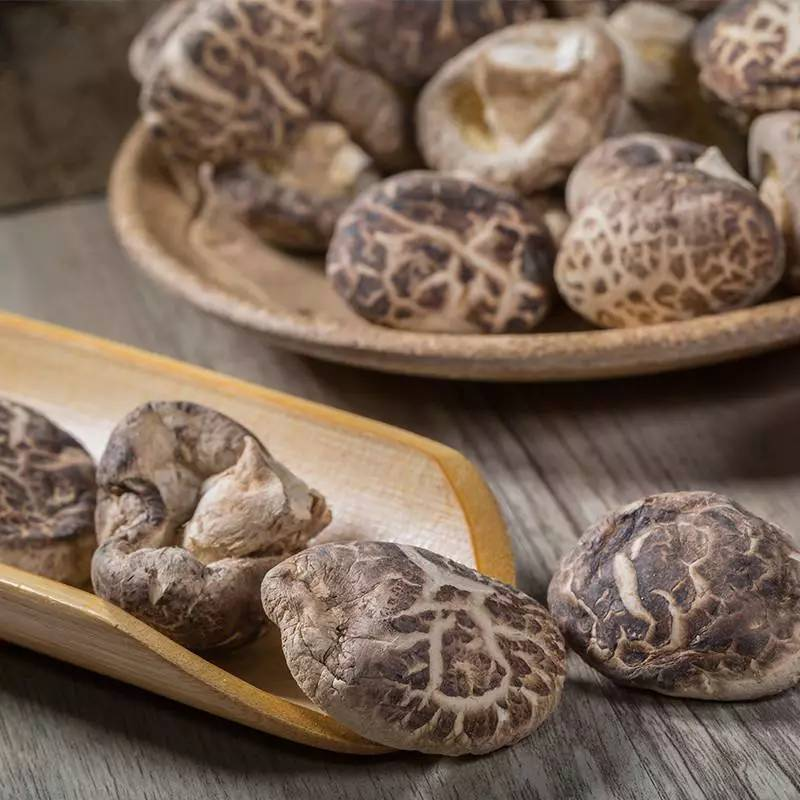H: (275, 529, 556, 750), (556, 494, 800, 687), (557, 169, 794, 340), (334, 172, 548, 324), (139, 4, 339, 144), (2, 385, 106, 569), (694, 5, 800, 100)
